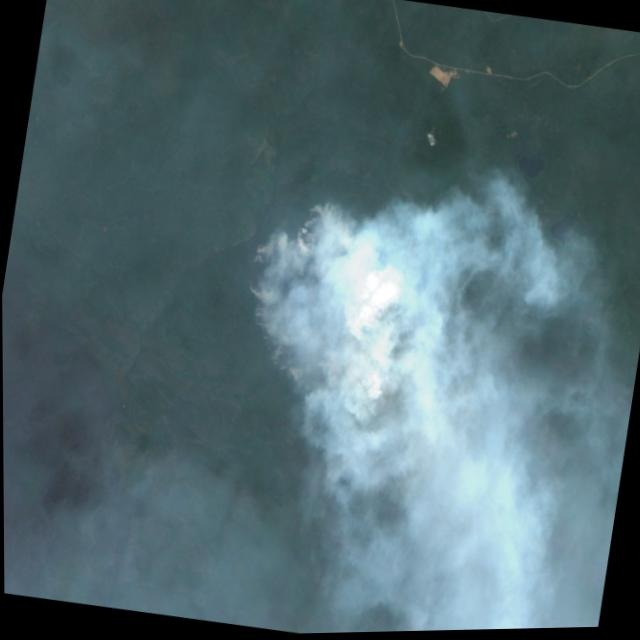fire: (229, 188, 405, 406)
